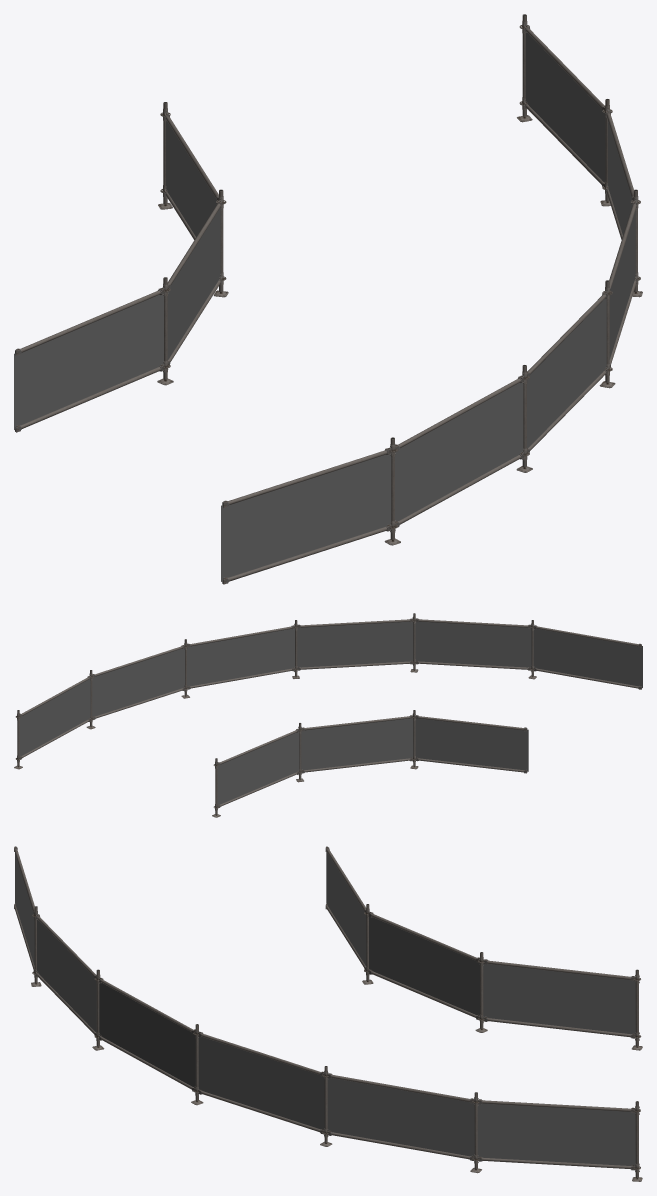
File: scaffold_foot_turnr_96x576.fbx
3 renders of one model, top to bottom at view 1: azimuth 30°, elevation 25°; view 2: azimuth 150°, elevation 25°; view 3: azimuth 270°, elevation 25°, orthographic. The views are drawn at different scales.
Visible parts, largest first — view 1: scaffold_foot_turnR_96x576; view 2: scaffold_foot_turnR_96x576; view 3: scaffold_foot_turnR_96x576.
Boxes of the visible parts, bbox=[...] form: scaffold_foot_turnR_96x576: bbox=[14, 14, 642, 584]; scaffold_foot_turnR_96x576: bbox=[14, 613, 642, 817]; scaffold_foot_turnR_96x576: bbox=[14, 846, 642, 1181].
Size of the model in its own units: 775 by 106 by 776.
Materials: 3 (2 with a texture image).
